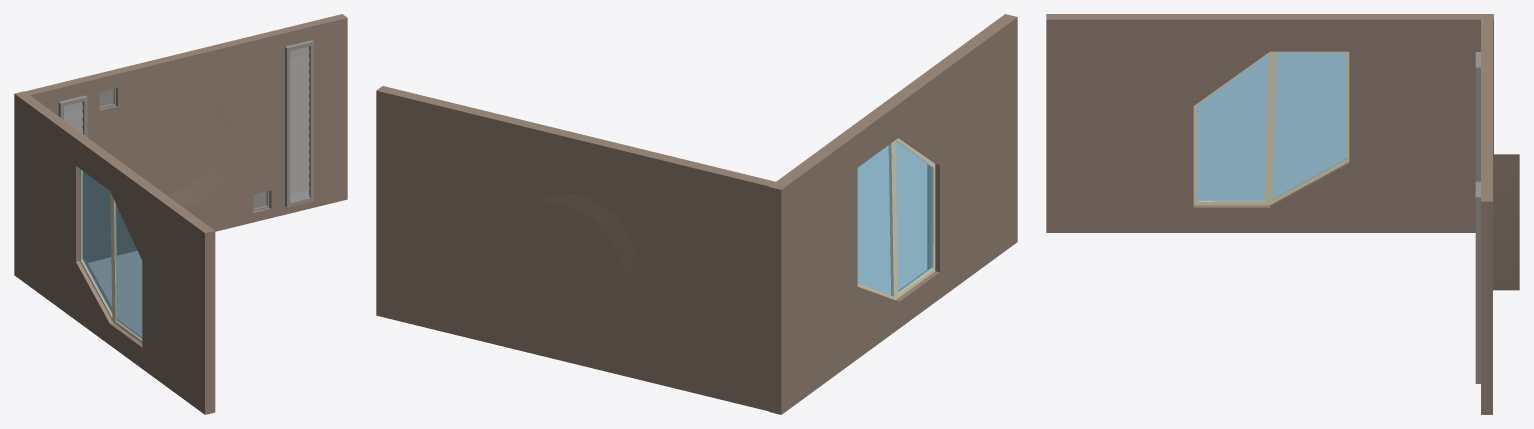
File: walls_tier16.fbx
The picture shows the model from 3 angles, left to right: view 1: azimuth 30°, elevation 25°; view 2: azimuth 150°, elevation 25°; view 3: azimuth 270°, elevation 25°; orthographic projection. The views are drawn at different scales.
Visible parts, largest first — view 1: Cube.007, Cube, Cube.003, Cube.004, Cube.001, Cube.002; view 2: Cube.007, Cube, Cube.003, Cube.001; view 3: Cube, Cube.003, Cube.007, Cube.001, Cube.004, Cube.002.
Part boxes in pixels (x1,y1,x2,y2): Cube.007: (25, 14, 347, 262); Cube: (14, 91, 215, 414); Cube.003: (81, 170, 142, 339); Cube.004: (285, 40, 313, 207); Cube.001: (79, 169, 142, 343); Cube.002: (58, 95, 87, 255); Cube.007: (376, 86, 775, 411); Cube: (769, 14, 1017, 414); Cube.003: (857, 140, 932, 295); Cube.001: (857, 138, 935, 300); Cube: (1046, 14, 1493, 232); Cube.003: (1197, 52, 1346, 201); Cube.007: (1481, 19, 1519, 414); Cube.001: (1193, 51, 1349, 205); Cube.004: (1475, 181, 1480, 383); Cube.002: (1475, 52, 1480, 181).
Bounding box in the file's own units: 653 × 346 × 696.
